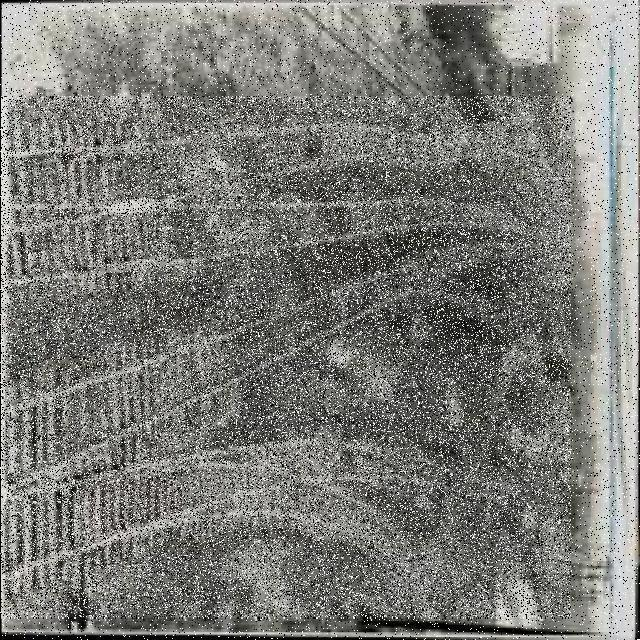rail: (3, 98, 572, 619)
